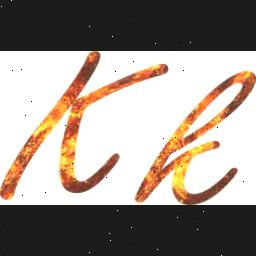k: (0, 53, 166, 205)
